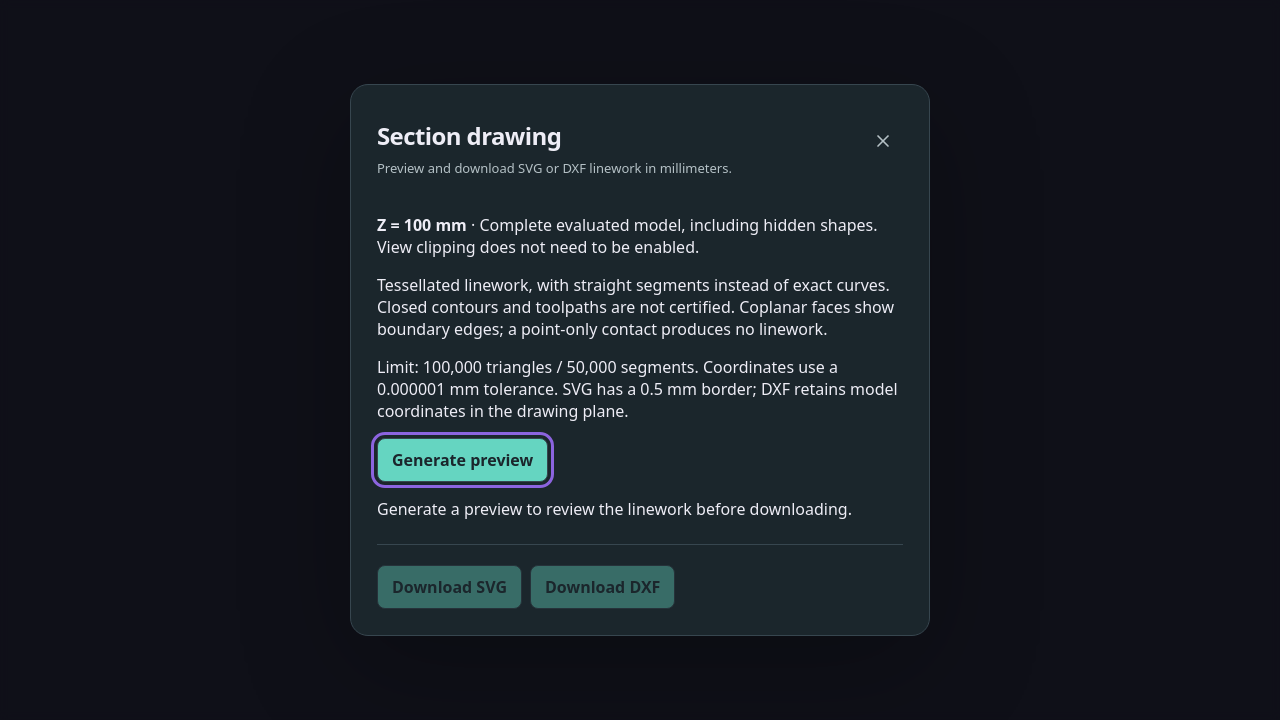
Scenario: section drawing preview › reports empty linework without enabling exports
The width and height of the screenshot is (1280, 720).
Click the button "Generate preview" at (463, 460), box 377,438 -> 548,482
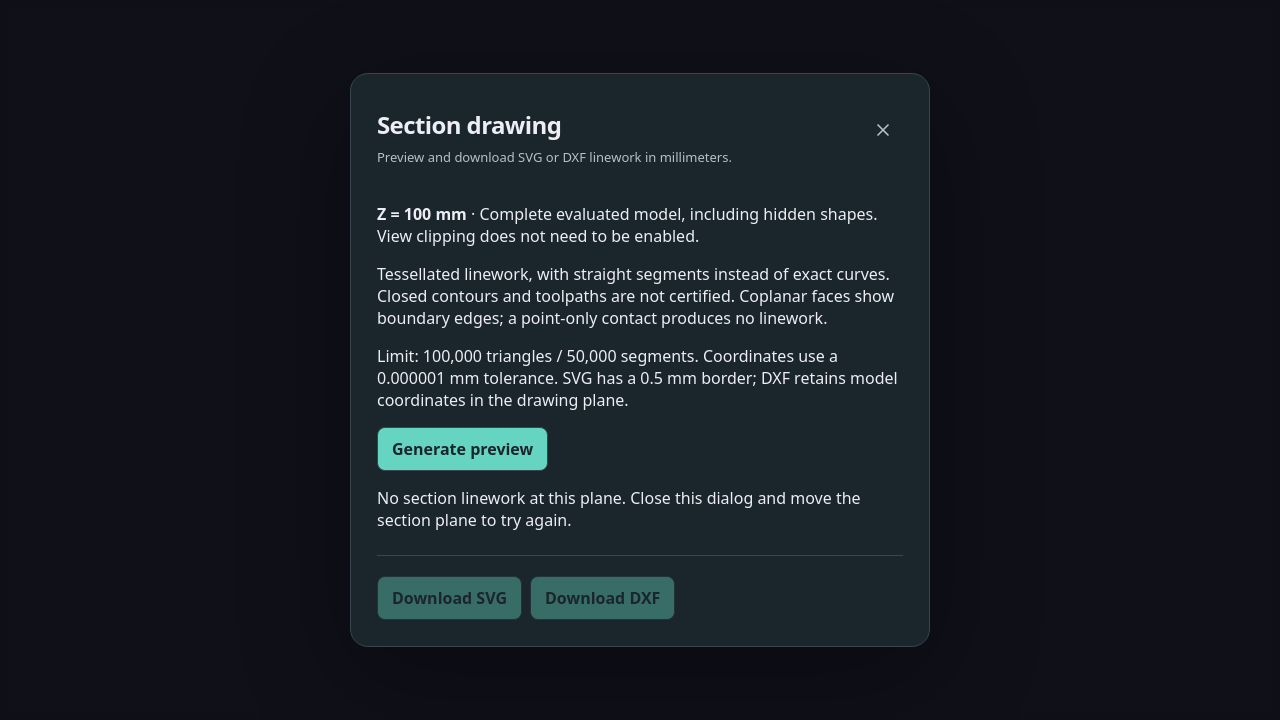
Expected: the button "Download DXF" is disabled, 530,576 -> 675,620
Expected: the text "No section linework" is shown, 377,487 -> 861,531
